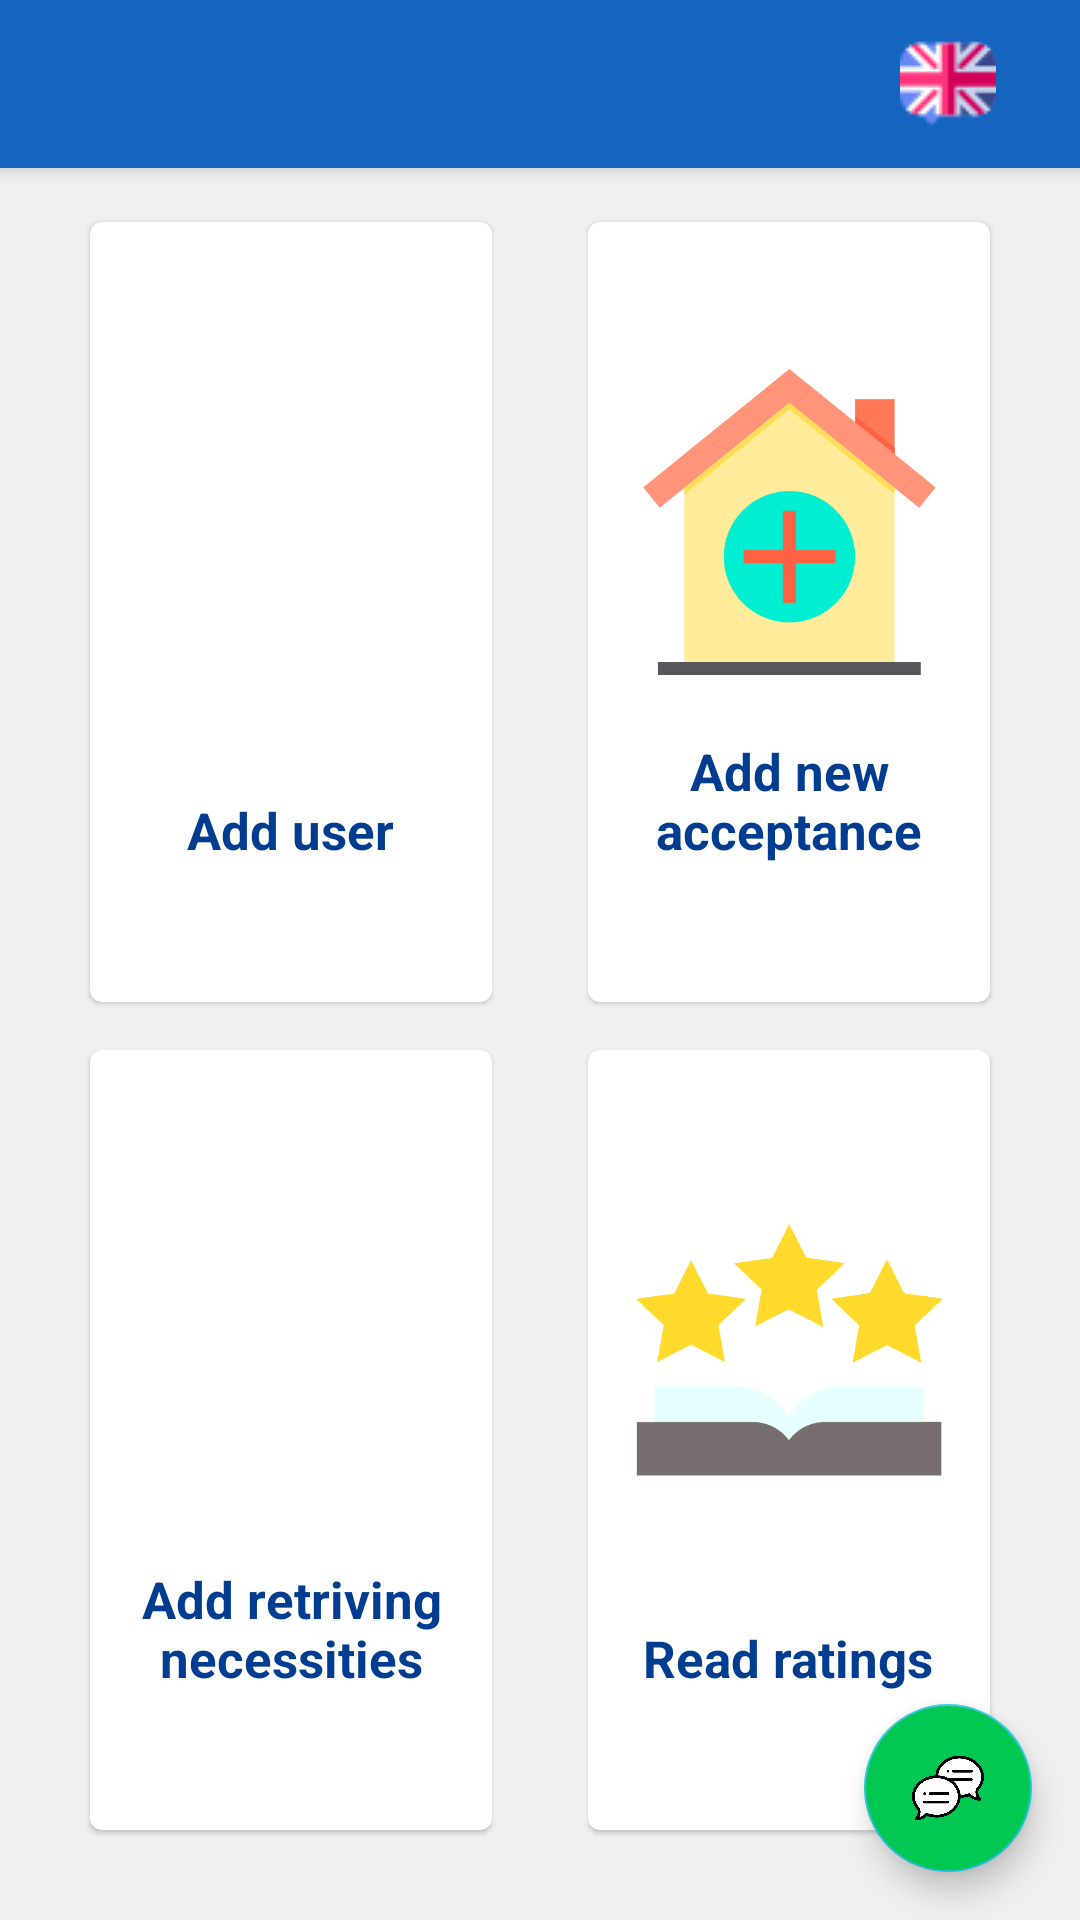

Icon bounding boxes for this 1080 × 1920 phone screenshot, format (x1, y1, x2, y2):
lang: (900, 41, 996, 125)
messenger: (864, 1704, 1032, 1872)
